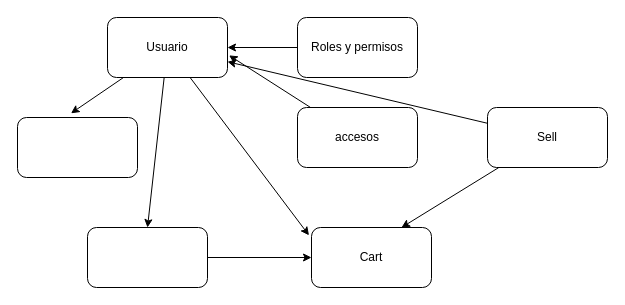
This 625x305 diagram has some shape labels left out. The box of each missing label's shape, as (x1, y1, x2, y2) in pixels:
Comunicacion: (16, 116, 138, 178)
Stock: (86, 226, 208, 288)
